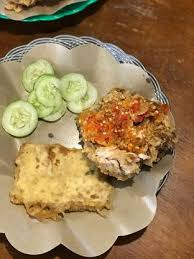ayam_geprek: (77, 80, 188, 178)
